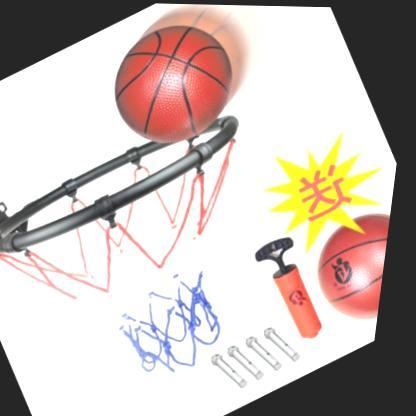basketball: (86, 2, 263, 165), (297, 189, 398, 337)
rim: (0, 94, 340, 416)
